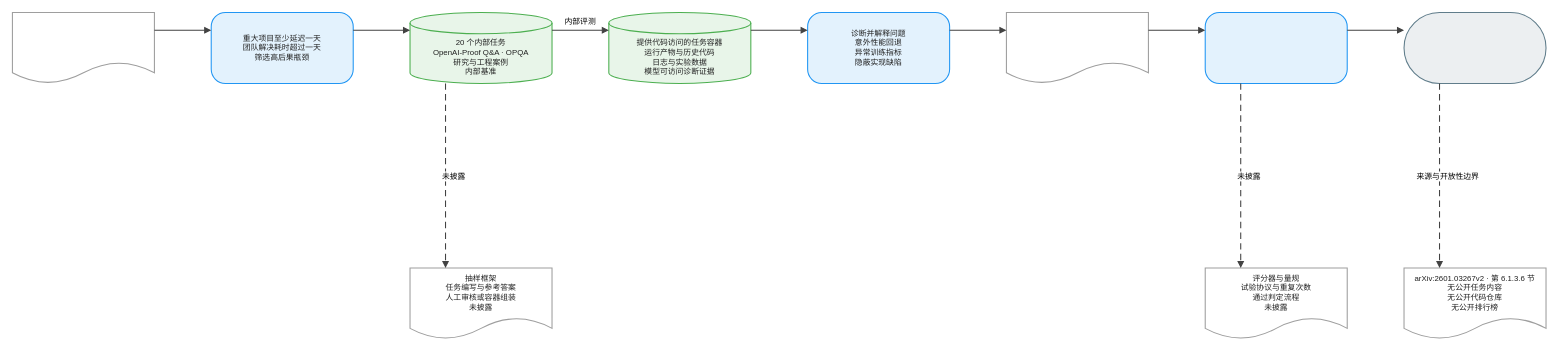
Image size: 1559x352. Some labels were removed from this diagram. The shapes that lost their labels are listed below. From the top down, each one's box as (x1, y1, x2, y2) in pixels, then its label:
(12, 12, 155, 84): OpenAI 研究与工程团队 重大项目中的真实瓶颈 部分影响训练运行或产品发布 历史内部案例
(1006, 12, 1149, 84): 生成解答 定位复杂问题 给出有证据的原因解释 处理项目瓶颈
(1204, 12, 1347, 84): 对每份解答评分 指标：pass@1 评分器与量规未披露 试验协议未披露
(1403, 12, 1546, 84): 报告 OPQA pass@1 gpt-5-thinking：2% 固定系统卡中的最高结果 内部评测信号
